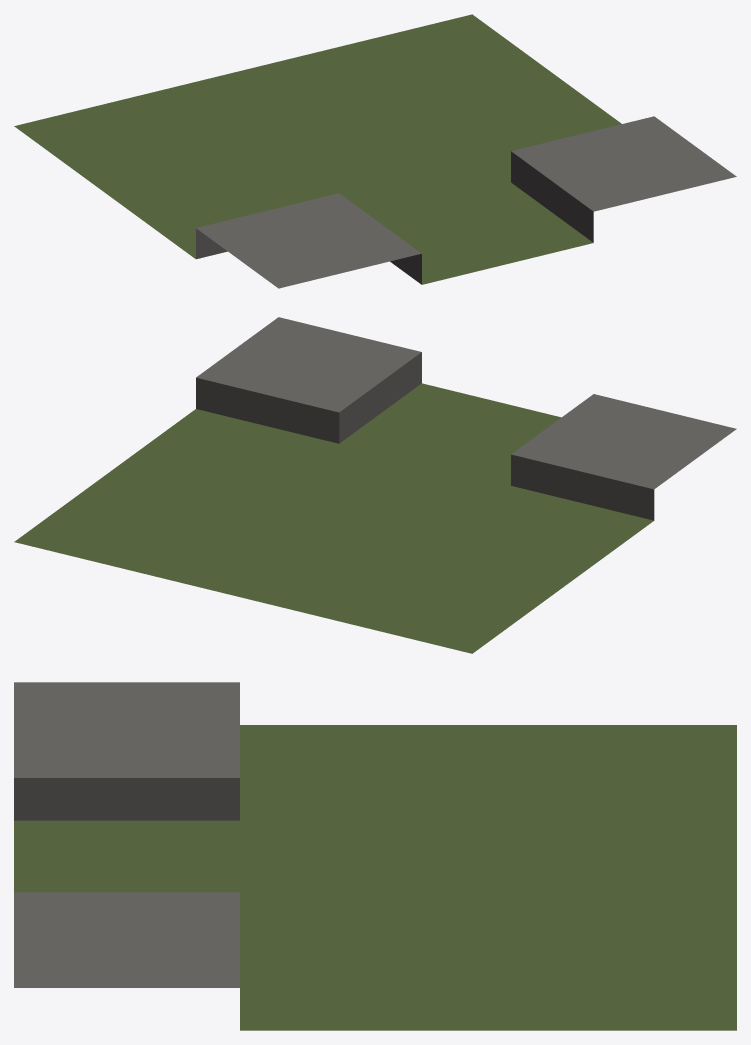
File: AI_Env_Sewer_Floor_Exit.fbx
3 renders of one model, top to bottom at view 1: azimuth 30°, elevation 25°; view 2: azimuth 150°, elevation 25°; view 3: azimuth 270°, elevation 25°, orthographic. The views are drawn at different scales.
Visible parts, largest first — view 1: AI_Env_Sewer_Floor_Exit; view 2: AI_Env_Sewer_Floor_Exit; view 3: AI_Env_Sewer_Floor_Exit.
Part boxes in pixels (bbox=[...]): AI_Env_Sewer_Floor_Exit: bbox=[14, 14, 736, 288]; AI_Env_Sewer_Floor_Exit: bbox=[14, 317, 736, 653]; AI_Env_Sewer_Floor_Exit: bbox=[14, 682, 736, 1030].
Bounding box in the file's own units: 5 × 0.3261 × 5.
